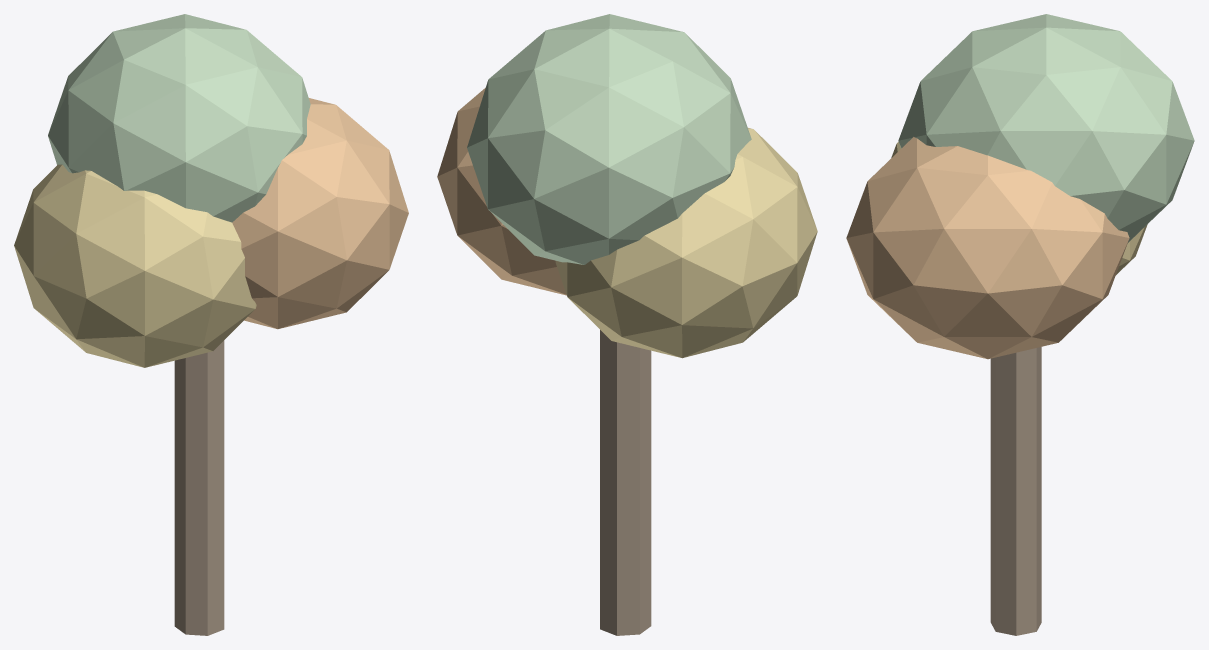
File: Tree_Maple.glb
The picture shows the model from 3 angles, left to right: view 1: azimuth 30°, elevation 25°; view 2: azimuth 150°, elevation 25°; view 3: azimuth 270°, elevation 25°; orthographic projection. The views are drawn at different scales.
Parts seen in each view (by area): view 1: 004_foliage_004, 002_foliage_002, 003_foliage_003, 000_cylinder_000; view 2: 004_foliage_004, 002_foliage_002, 000_cylinder_000, 003_foliage_003; view 3: 003_foliage_003, 004_foliage_004, 000_cylinder_000, 002_foliage_002.
Part boxes in pixels (x1,y1,x2,y2): 004_foliage_004: (48,14,310,222); 002_foliage_002: (14,164,256,367); 003_foliage_003: (232,98,408,329); 000_cylinder_000: (174,340,224,635); 004_foliage_004: (467,14,751,264); 002_foliage_002: (555,128,817,358); 000_cylinder_000: (600,330,651,635); 003_foliage_003: (437,88,566,295); 003_foliage_003: (846,137,1129,359); 004_foliage_004: (898,14,1194,242); 000_cylinder_000: (990,347,1041,635); 002_foliage_002: (891,142,1147,274).
Bounding box in the file's own units: 3.98 × 6.53 × 3.45.
